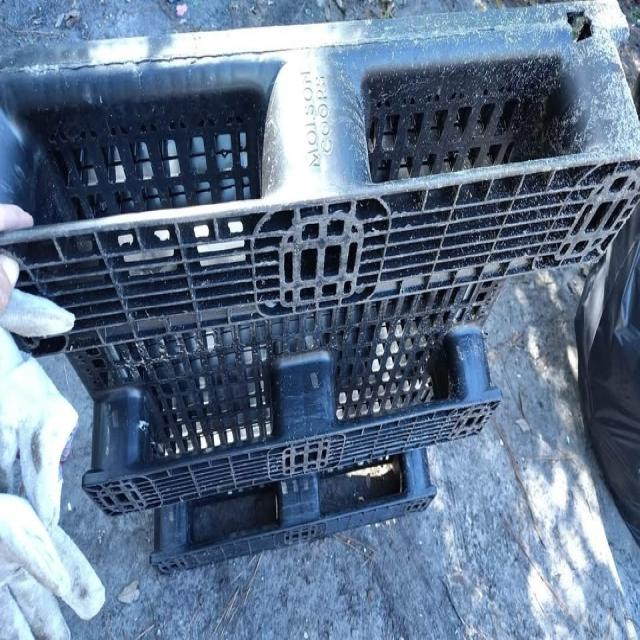non-igps: (0, 0, 639, 581)
